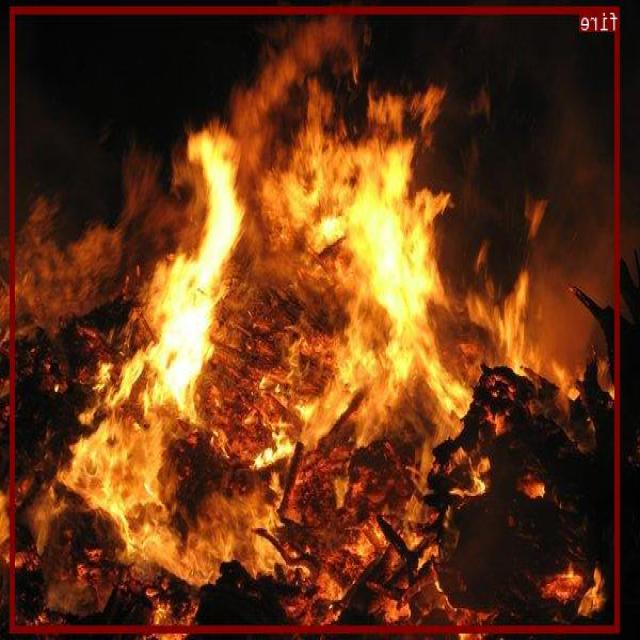fire: (11, 5, 620, 632)
